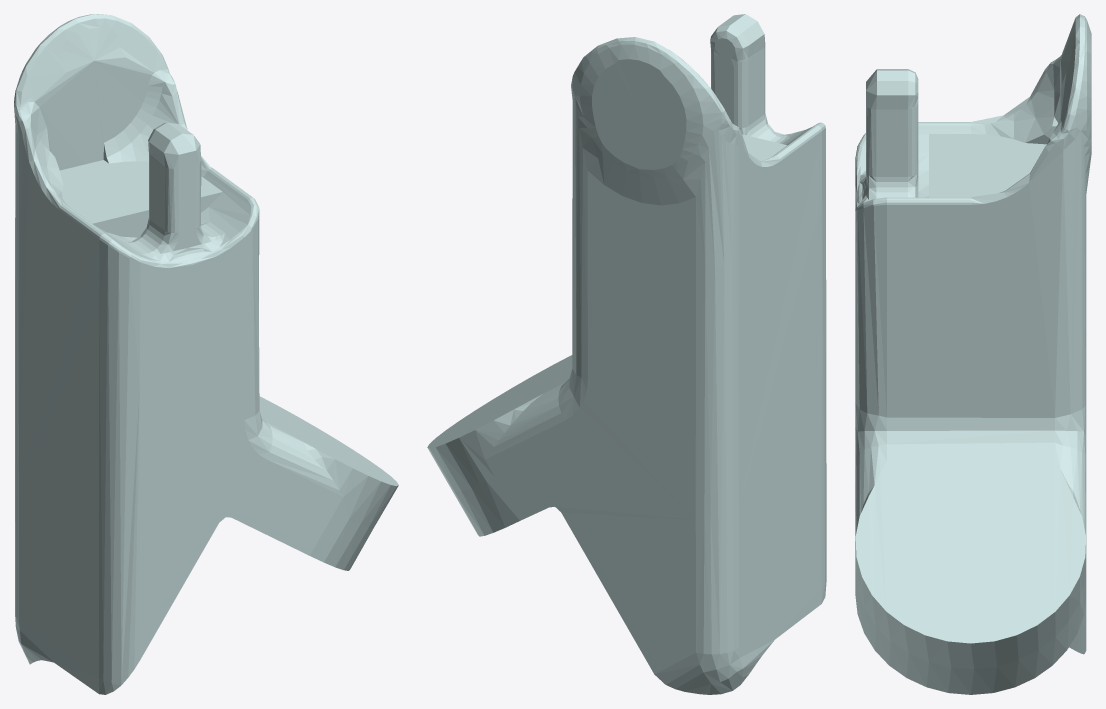
Rendered from lfmetacarpal.dae.
3 renders of one model, left to right at view 1: azimuth 30°, elevation 25°; view 2: azimuth 150°, elevation 25°; view 3: azimuth 270°, elevation 25°, orthographic. The views are drawn at different scales.
Parts seen in each view (by area): view 1: metacarpal; view 2: metacarpal; view 3: metacarpal.
Boxes of the visible parts, <box> form: metacarpal: <box>14,14,398,694</box>; metacarpal: <box>427,14,826,694</box>; metacarpal: <box>855,14,1091,694</box>.
Size of the model in its own units: 37.25 by 22.5 by 68.51.
